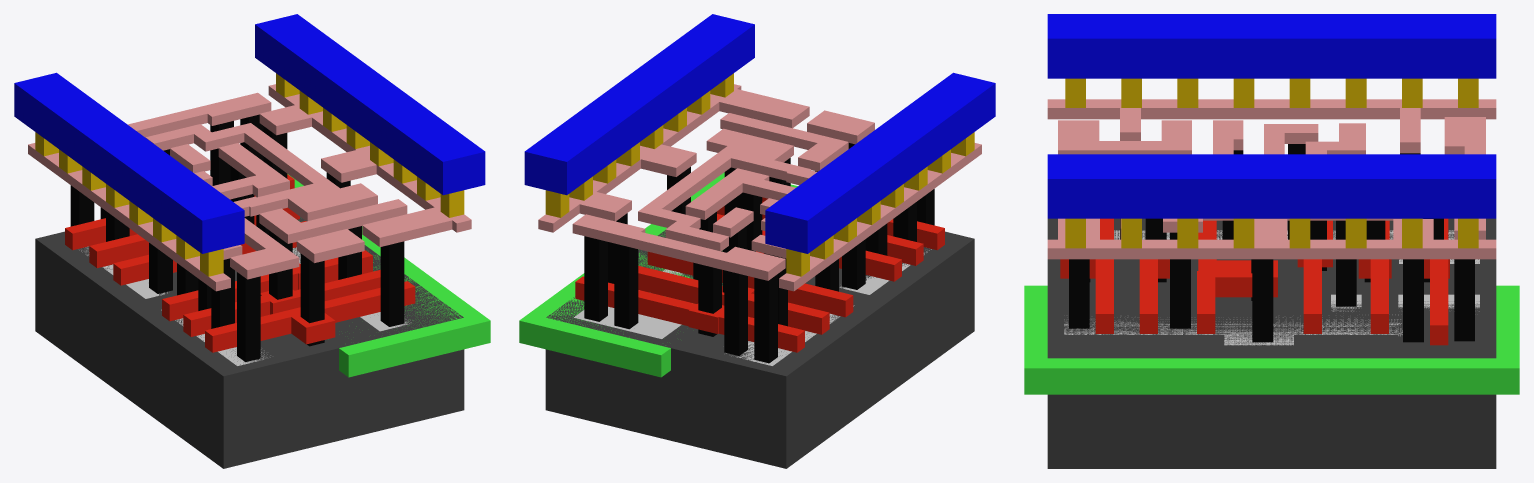
The model's file is sky130_fd_sc_hd__o2bb2a_1.obj.
3 renders of one model, left to right at view 1: azimuth 30°, elevation 25°; view 2: azimuth 150°, elevation 25°; view 3: azimuth 270°, elevation 25°, orthographic. The views are drawn at different scales.
Parts seen in each view (by area): view 1: subs, metal1, li, licon, poly, nwell, mcon, diff; view 2: subs, metal1, li, licon, poly, nwell, mcon, tap, diff; view 3: subs, metal1, li, nwell, poly, licon, mcon, tap.
Boxes of the visible parts, <box> form: subs: <box>35,217,464,468</box>; metal1: <box>14,14,485,253</box>; li: <box>28,84,471,291</box>; licon: <box>70,114,404,362</box>; poly: <box>65,174,415,352</box>; nwell: <box>287,174,490,377</box>; mcon: <box>35,73,464,276</box>; diff: <box>79,246,270,365</box>; subs: <box>545,230,974,468</box>; metal1: <box>524,14,995,253</box>; li: <box>538,84,981,291</box>; licon: <box>584,143,934,363</box>; poly: <box>575,197,944,352</box>; nwell: <box>519,172,797,377</box>; mcon: <box>545,73,974,276</box>; tap: <box>574,269,683,338</box>; diff: <box>726,249,931,365</box>; subs: <box>1047,218,1496,468</box>; metal1: <box>1047,14,1496,218</box>; li: <box>1047,99,1496,259</box>; nwell: <box>1024,285,1519,394</box>; poly: <box>1060,218,1449,345</box>; licon: <box>1069,144,1474,342</box>; mcon: <box>1065,78,1478,248</box>; tap: <box>1064,294,1479,345</box>.
Size of the model in its own units: 3.2 by 2.74 by 4.06.
